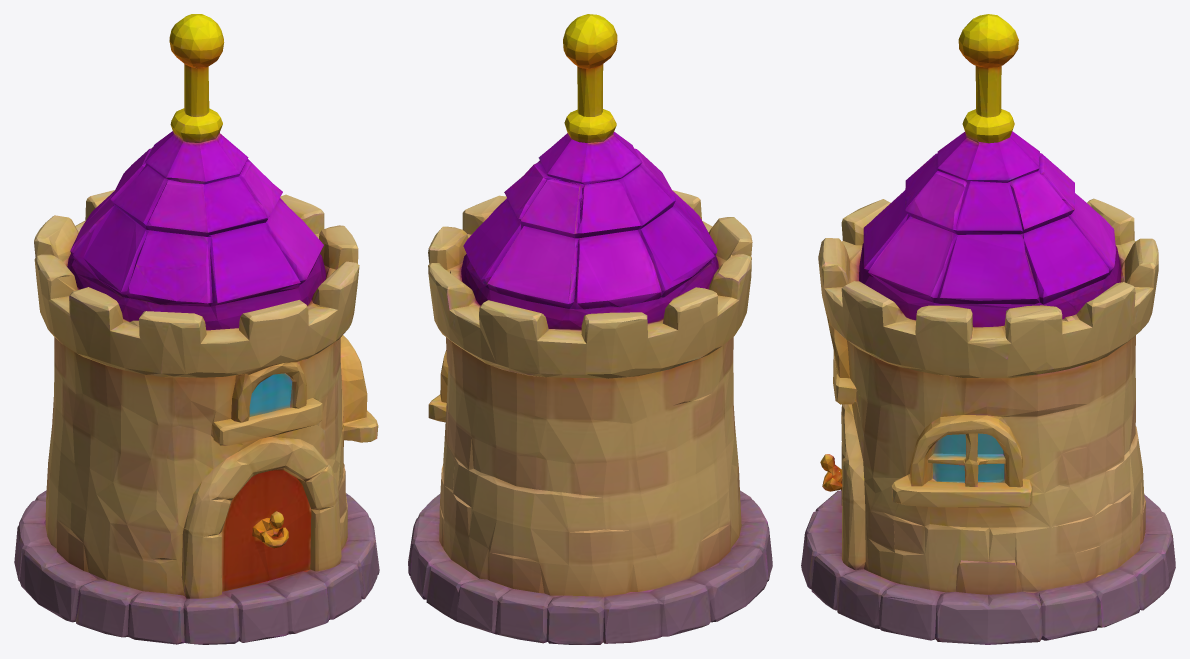
The model's file is tour.glb.
3 renders of one model, left to right at view 1: azimuth 30°, elevation 25°; view 2: azimuth 150°, elevation 25°; view 3: azimuth 270°, elevation 25°, orthographic.
Visible parts, largest first — view 1: geometry_0; view 2: geometry_0; view 3: geometry_0.
Part boxes in pixels (x1,y1,x2,y2): geometry_0: (14,14,379,644); geometry_0: (408,14,772,644); geometry_0: (801,14,1175,644).
Bounding box in the file's own units: 0.5946 × 0.9991 × 0.613.
Materials: 1 (1 with a texture image).
